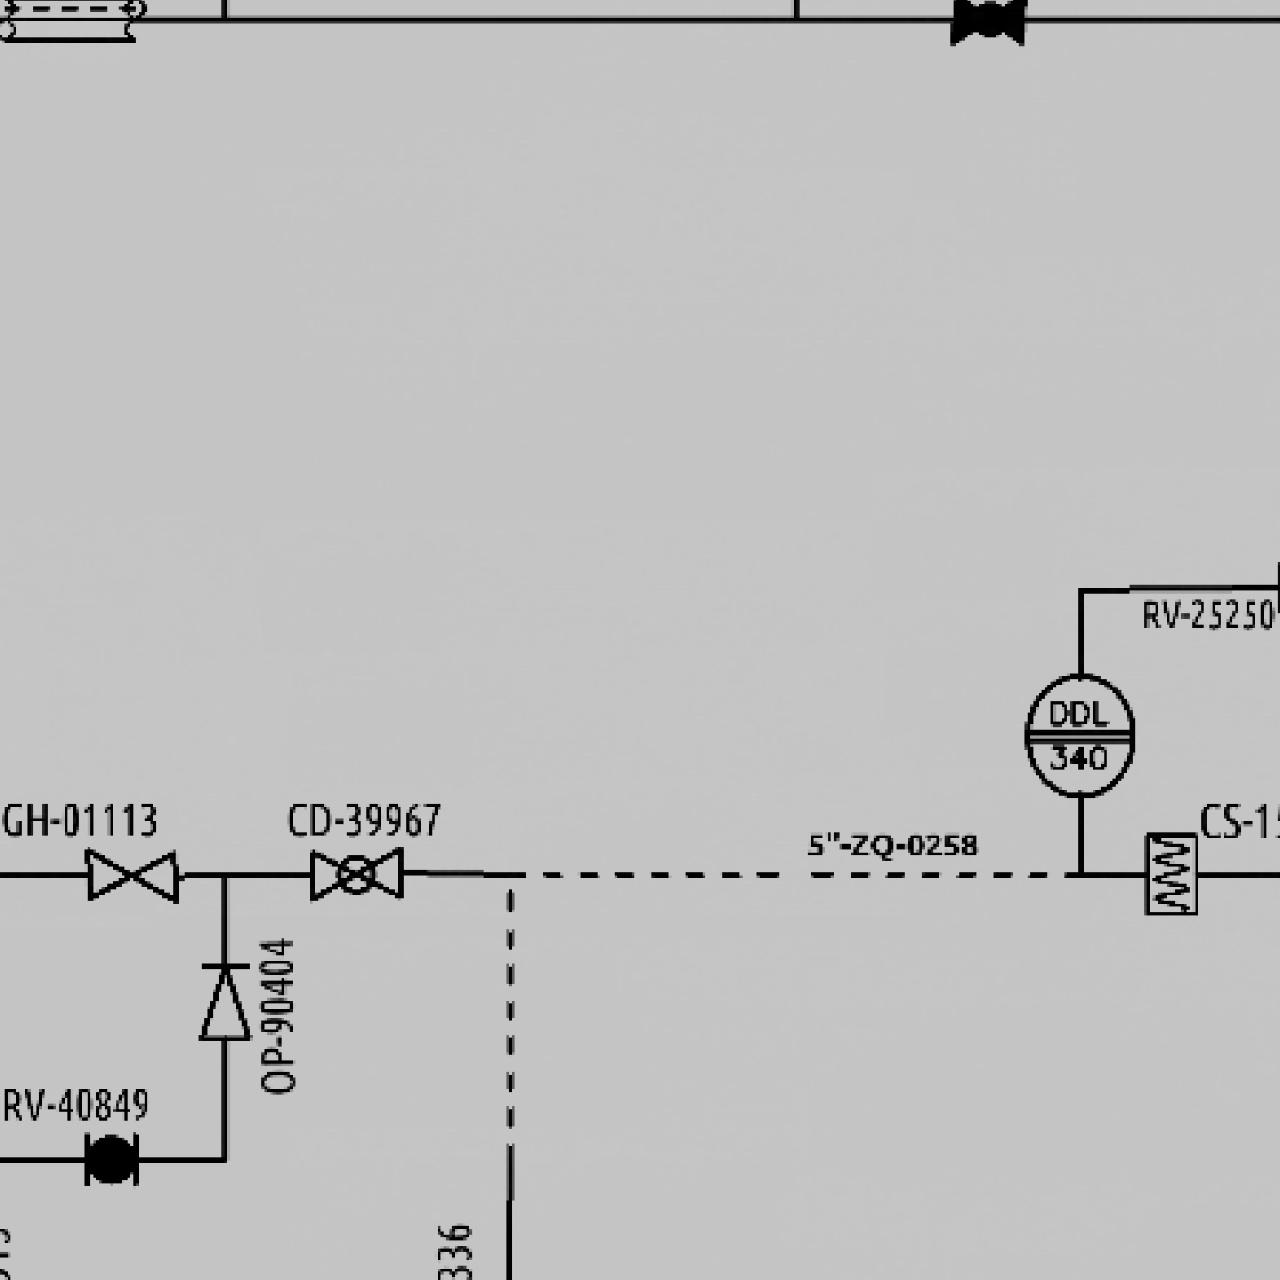Control-Panel: (1013, 668, 1146, 802)
